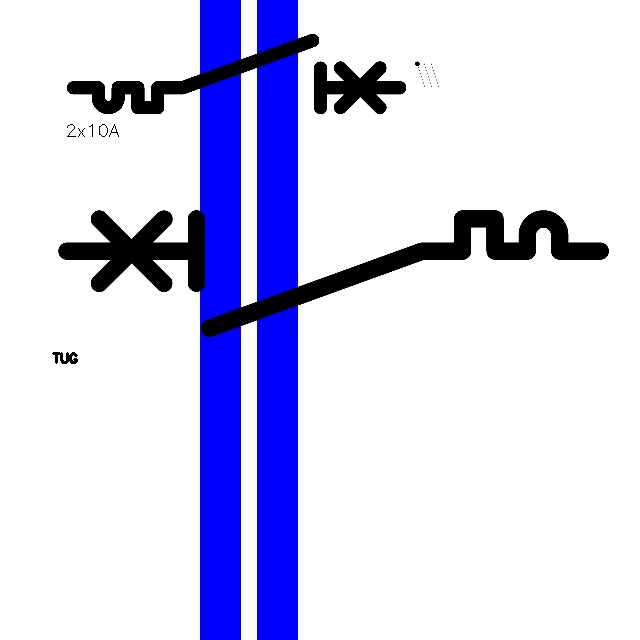interruptor_termomagnetico: (53, 205, 614, 342), (65, 32, 408, 116)
